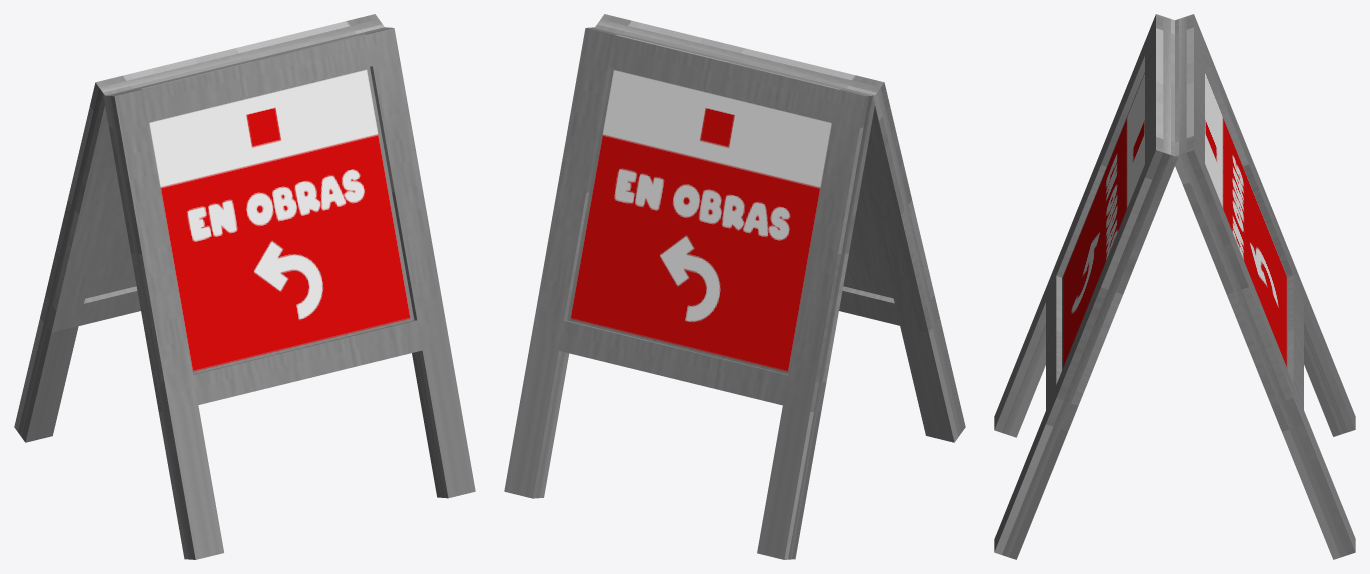
The model's file is Cartel Obras.fbx.
The picture shows the model from 3 angles, left to right: view 1: azimuth 30°, elevation 25°; view 2: azimuth 150°, elevation 25°; view 3: azimuth 270°, elevation 25°; orthographic projection.
Parts seen in each view (by area): view 1: Cartel; view 2: Cartel; view 3: Cartel.
Part boxes in pixels (x1,y1,x2,y2): Cartel: (14, 14, 475, 559); Cartel: (504, 14, 965, 559); Cartel: (994, 14, 1355, 559).
Size of the model in its own units: 5 by 7.02 by 5.61.
Materials: 1 (1 with a texture image).
